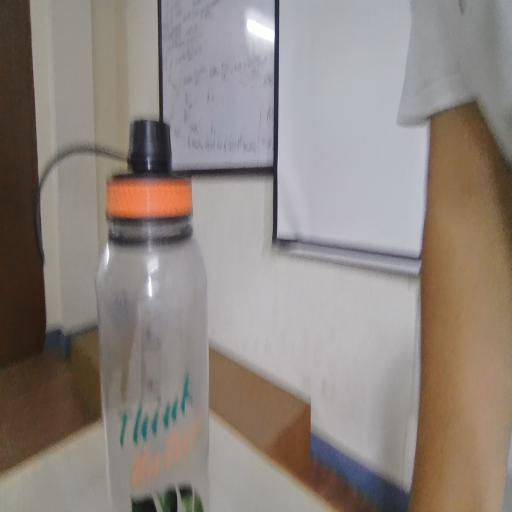Bottle: (87, 84, 221, 512)
